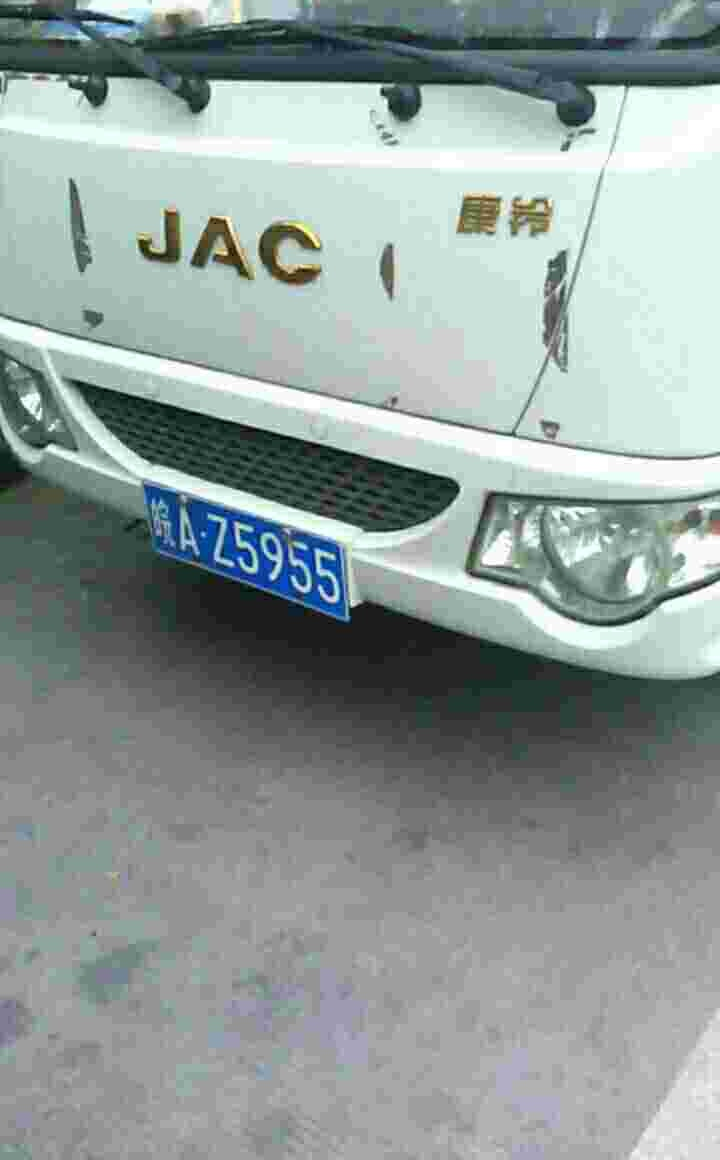license_plate: (135, 475, 351, 617)
